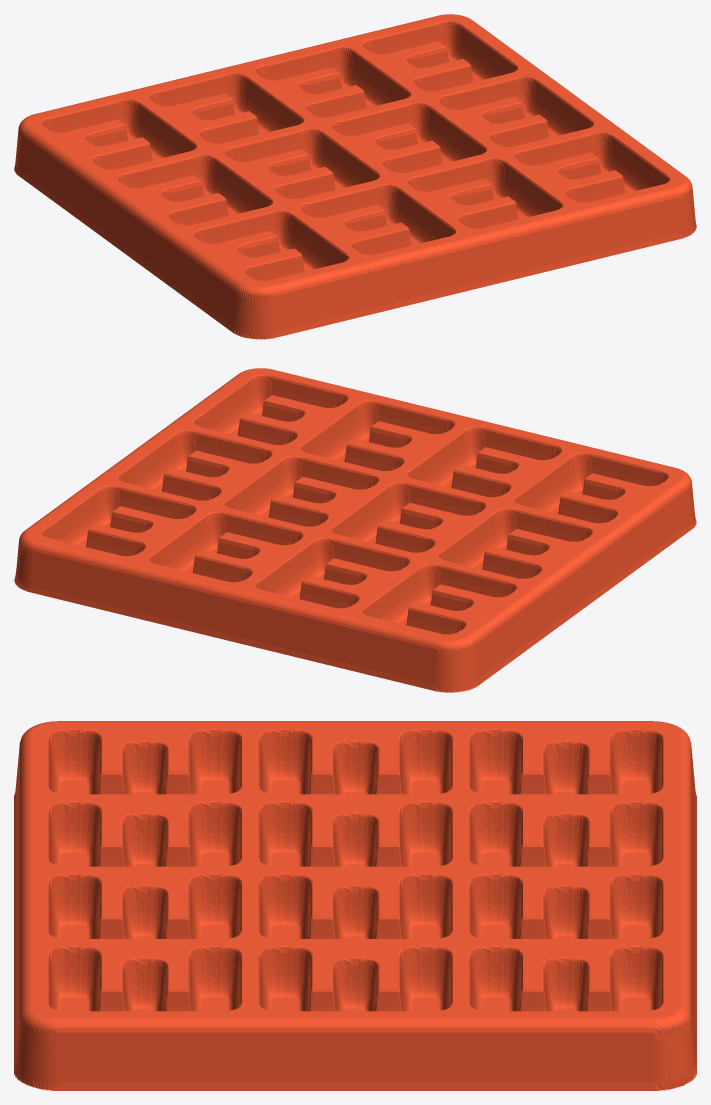
File: mold.glb
3 views of the same model, one above another, from view 1: azimuth 30°, elevation 25°; view 2: azimuth 150°, elevation 25°; view 3: azimuth 270°, elevation 25° (orthographic). The views are drawn at different scales.
Visible parts, largest first — view 1: geometry_0; view 2: geometry_0; view 3: geometry_0.
Boxes of the visible parts, <box> form: geometry_0: <box>14,14,696,339</box>; geometry_0: <box>14,368,696,692</box>; geometry_0: <box>14,721,696,1090</box>.
Bounding box in the file's own units: 0.148 × 0.0145 × 0.1374.
